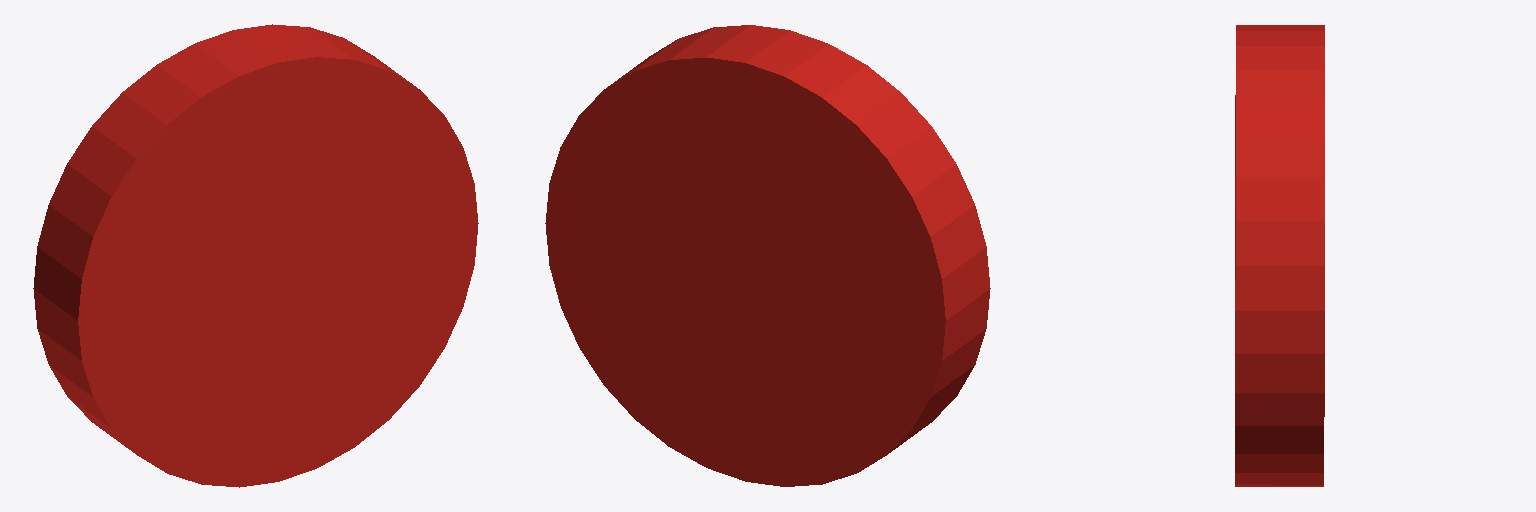
File: button2.obj
3 views of the same model, side by side, from view 1: azimuth 30°, elevation 25°; view 2: azimuth 150°, elevation 25°; view 3: azimuth 270°, elevation 25° (orthographic).
Parts seen in each view (by area): view 1: Cylinder; view 2: Cylinder; view 3: Cylinder.
Part boxes in pixels (x1,y1,x2,y2): Cylinder: (33,24,478,487); Cylinder: (545,25,990,486); Cylinder: (1235,25,1324,486).
Size of the model in its own units: 1.02 by 1.02 by 0.199.